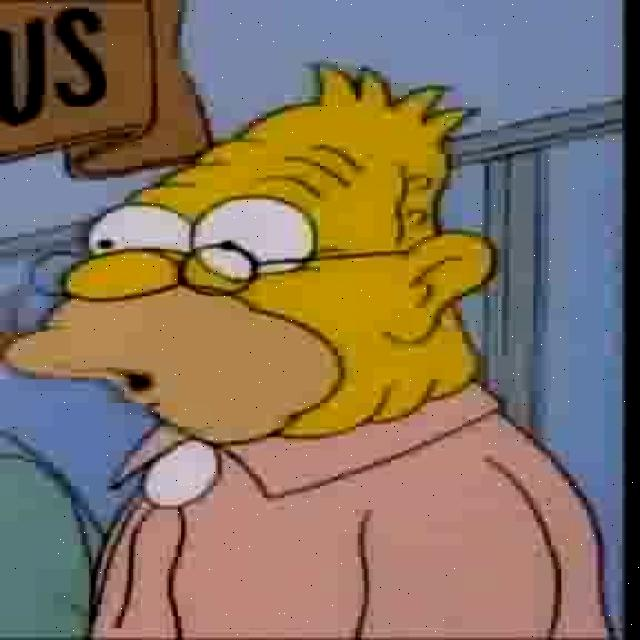Abraham Grampa Simpson: (2, 59, 506, 448)
